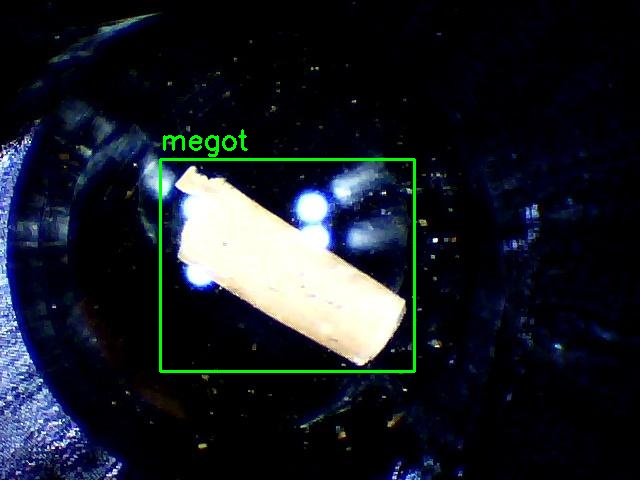megot: (160, 159, 414, 371)
